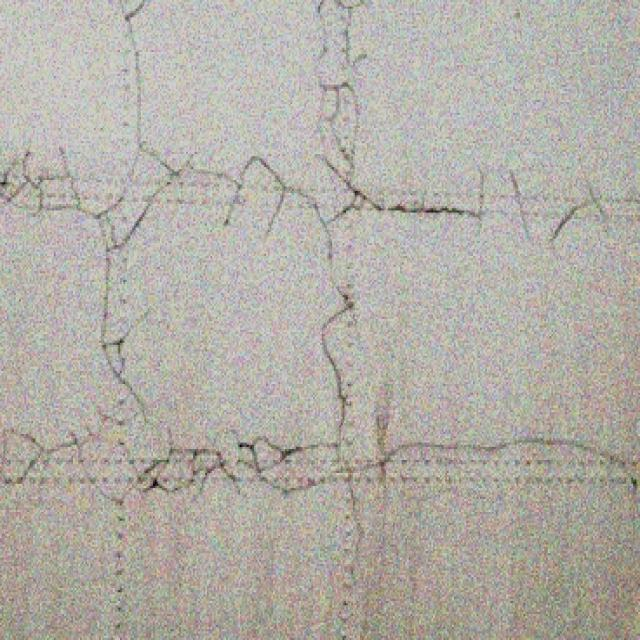crack: (0, 138, 618, 249), (0, 418, 639, 501), (302, 2, 368, 584), (90, 2, 151, 501)
